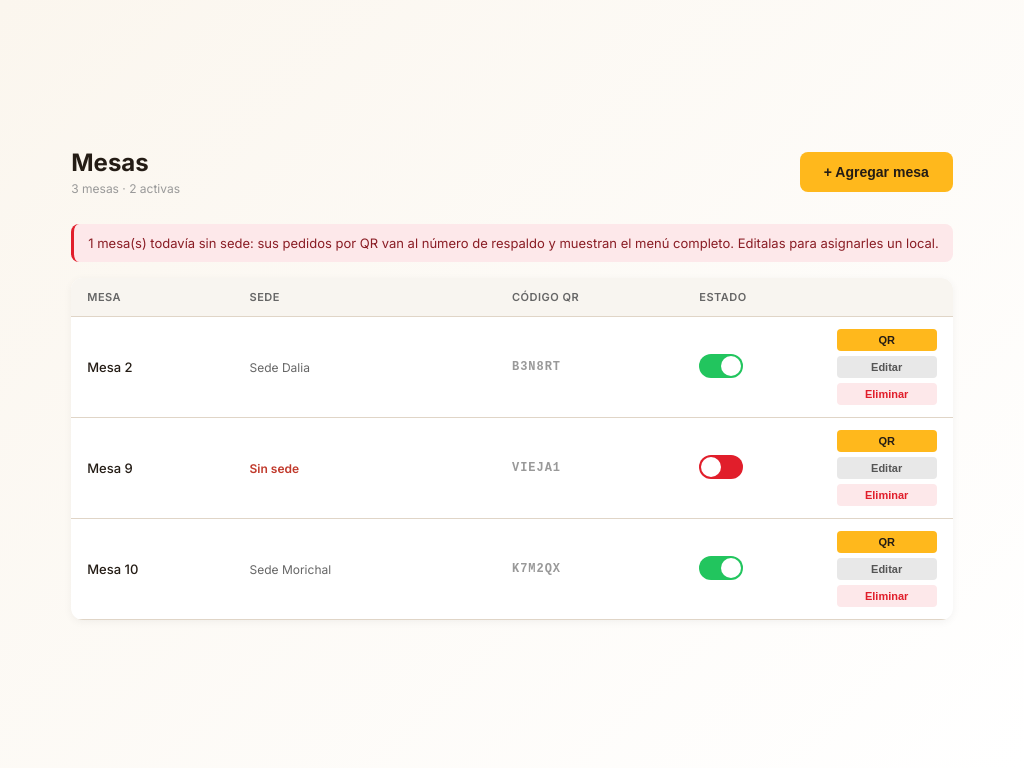
Test: MesasSection › el modal de edicion muestra el codigo como solo lectura
Click the button with aria-label "Editar mesa 2": x=887, y=367 [837,356,937,378]
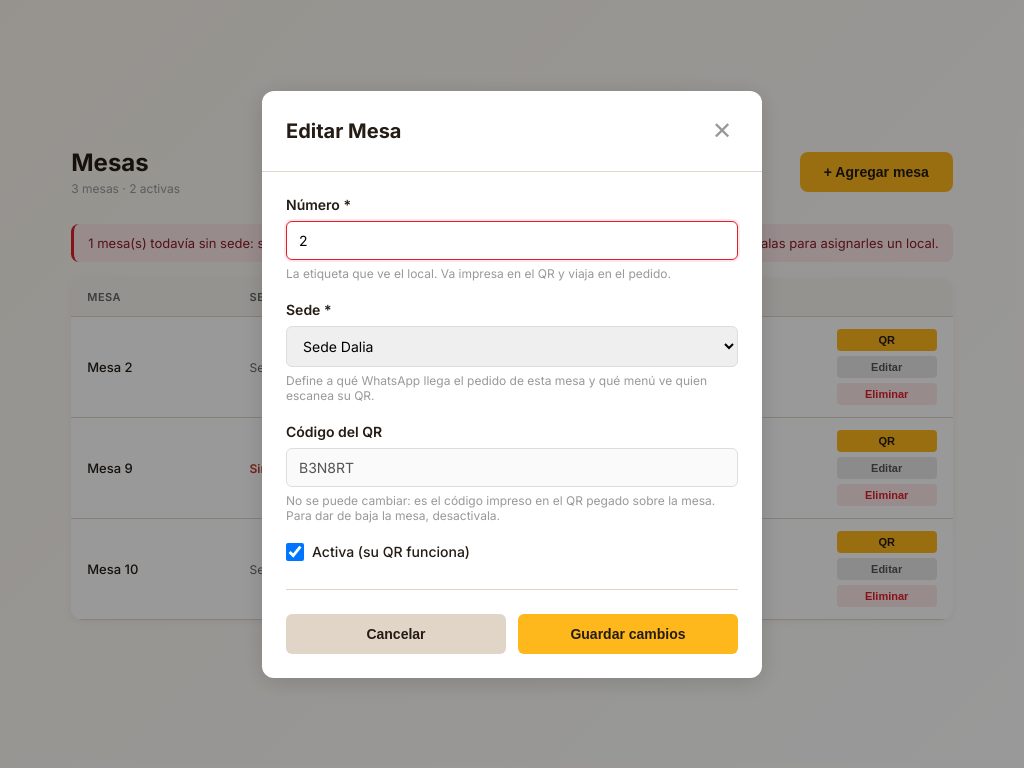
Result: the field labelled "Código del QR" holds "B3N8RT" at [286,448,738,486]
Result: the field labelled "Código del QR" is disabled at [286,448,738,486]
